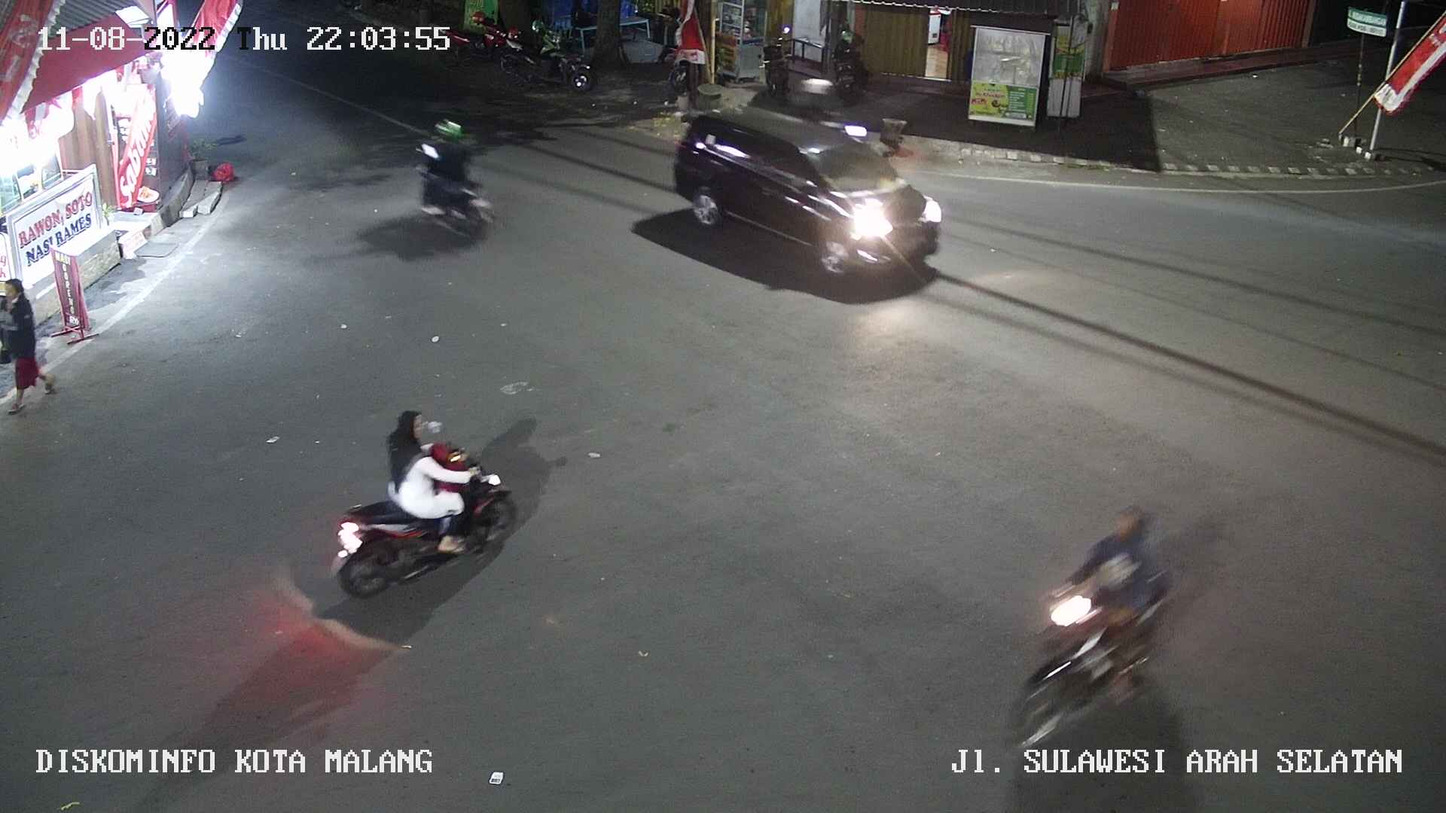with_helmet: (398, 110, 508, 243)
without_helmet: (985, 450, 1182, 759), (304, 405, 525, 606)
